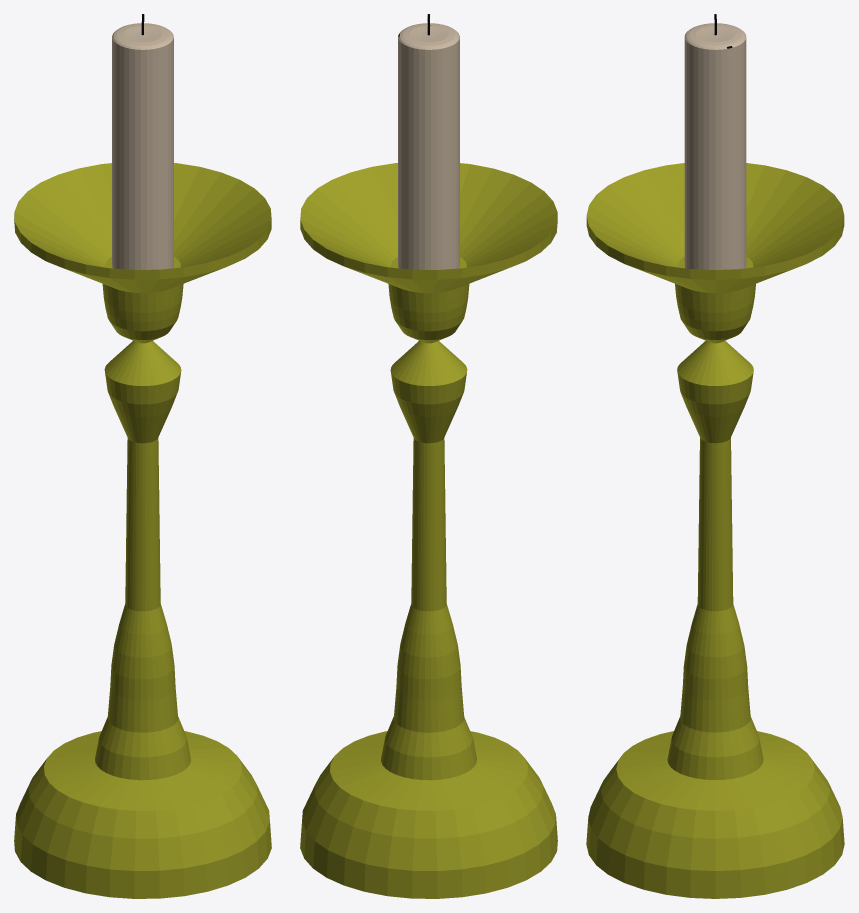
The model's file is candle.obj.
The picture shows the model from 3 angles, left to right: view 1: azimuth 30°, elevation 25°; view 2: azimuth 150°, elevation 25°; view 3: azimuth 270°, elevation 25°; orthographic projection.
Visible parts, largest first — view 1: 円柱.002; view 2: 円柱.002; view 3: 円柱.002.
Part boxes in pixels (<box>): 円柱.002: <box>14,14,271,898</box>; 円柱.002: <box>300,14,557,898</box>; 円柱.002: <box>586,14,844,898</box>.
Bounding box in the file's own units: 0.4508 × 1.6 × 0.4508.
Materials: 1 (1 with a texture image).
